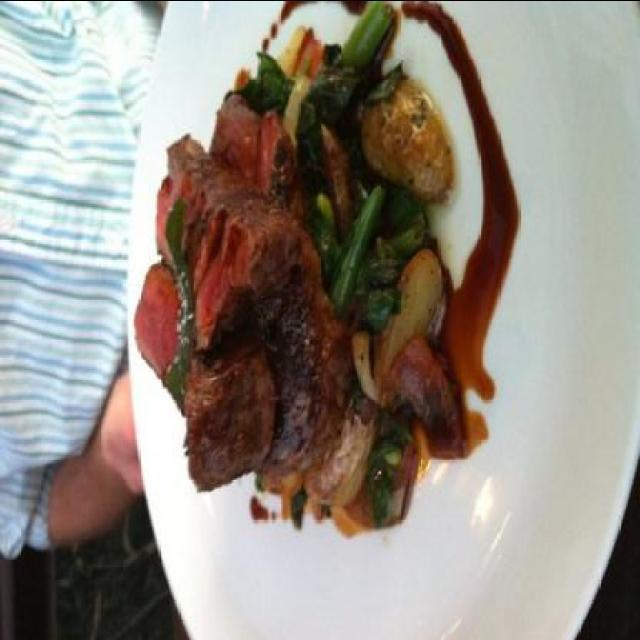Steak: (120, 70, 462, 536)
